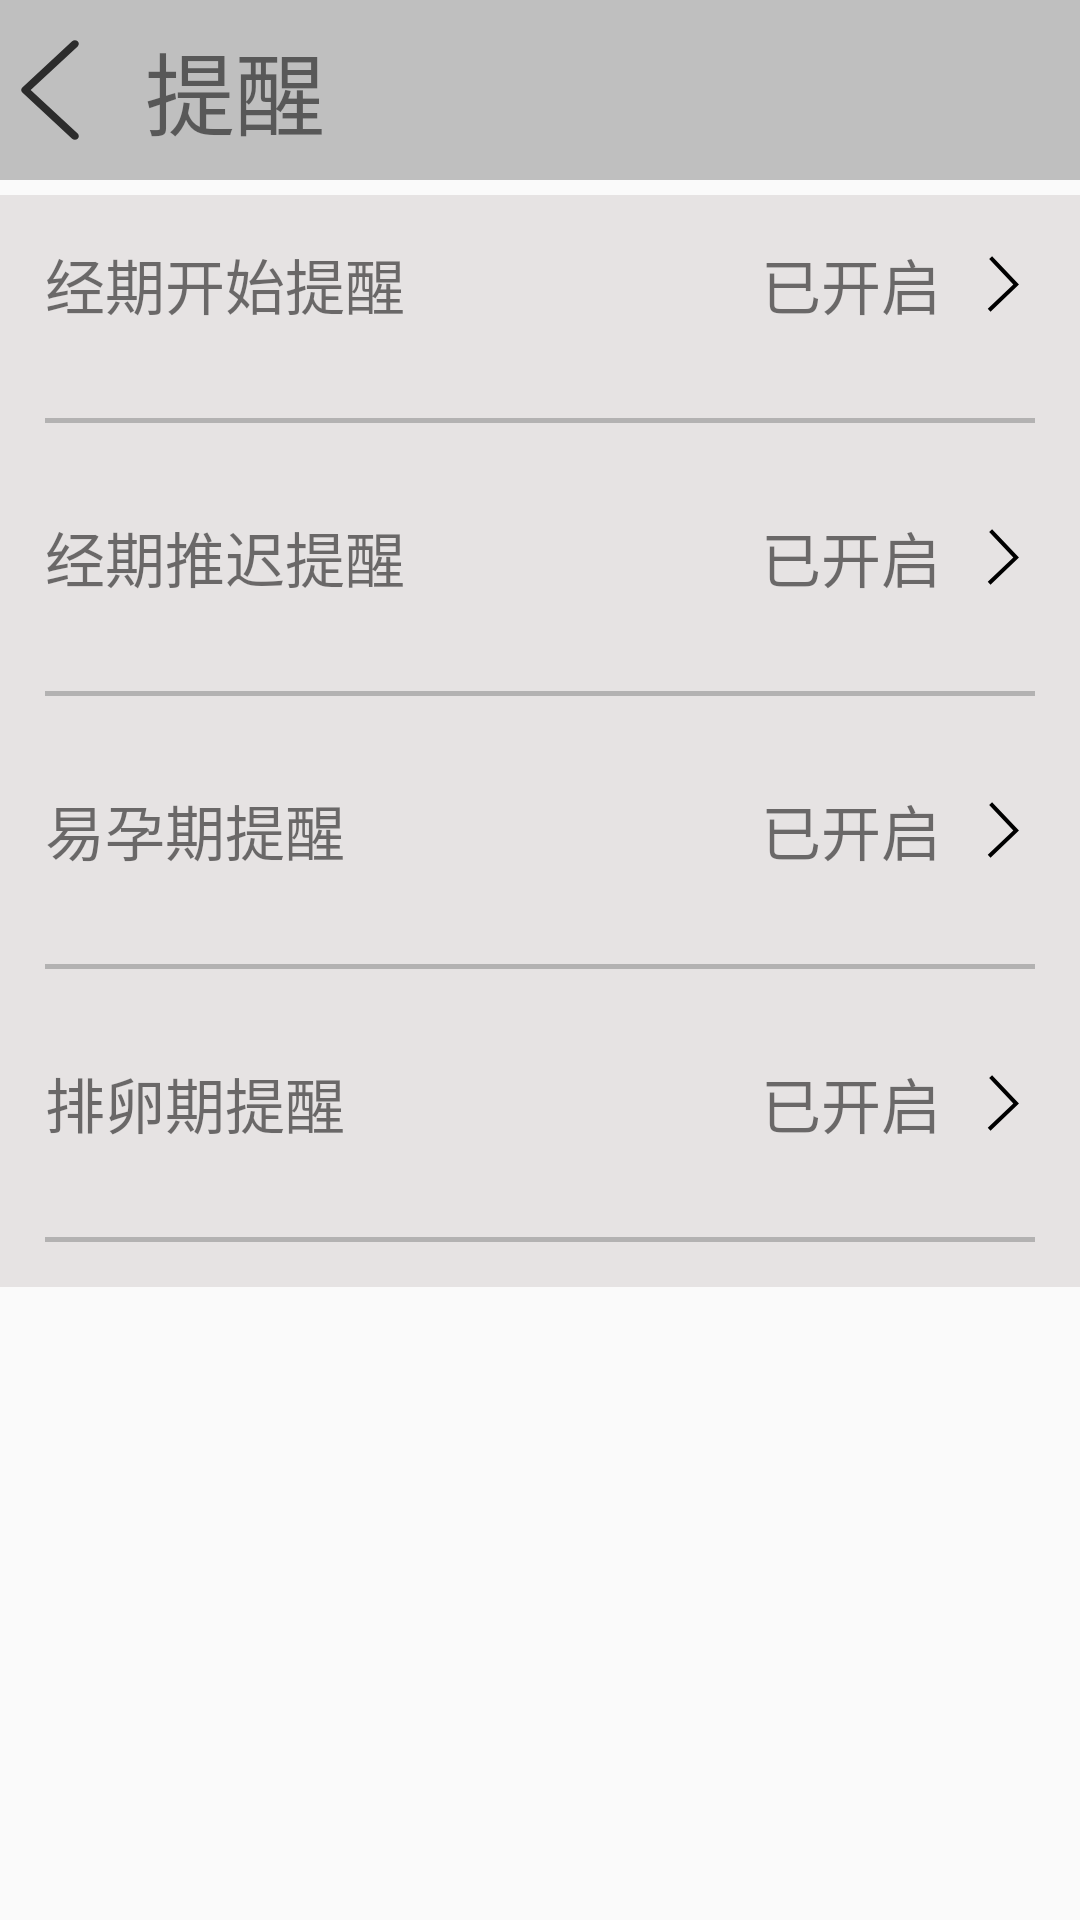

Where icons sit on this 1080 x 1920 app screen, as bbox(x1, y1, x2, y2):
back: bbox(21, 40, 79, 140)
seting kuohao: bbox(988, 256, 1019, 312), bbox(988, 529, 1019, 585), bbox(988, 802, 1019, 858), bbox(988, 1075, 1019, 1131)
